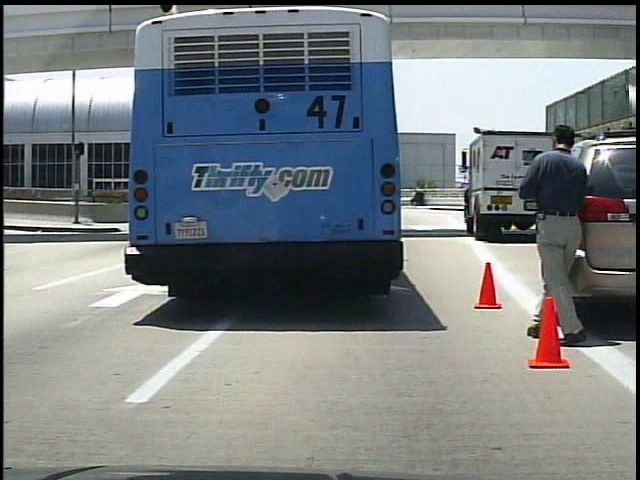person: (520, 117, 599, 348)
